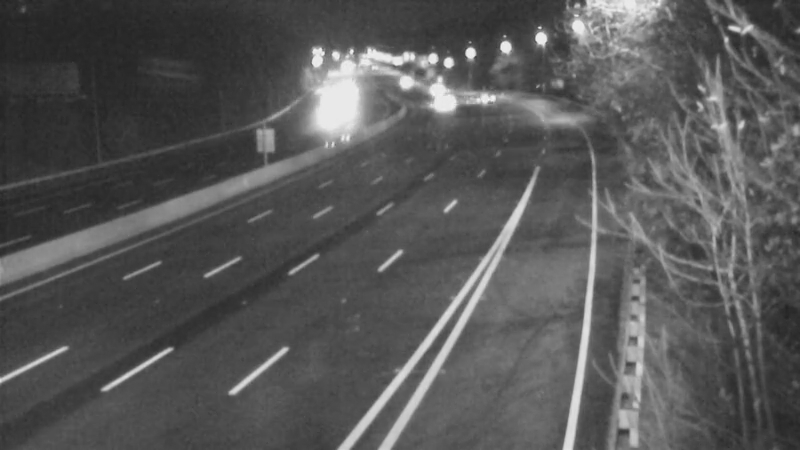vehicle: (380, 58, 430, 108), (408, 65, 458, 115), (456, 67, 506, 117), (415, 76, 465, 126), (304, 86, 354, 136)
